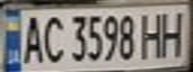3: (66, 11, 87, 63)
5: (84, 11, 106, 62)
8: (118, 11, 139, 61)
9: (103, 11, 121, 61)
A: (18, 11, 45, 64)
C: (39, 11, 66, 64)
H: (157, 7, 190, 57), (139, 9, 166, 60)
